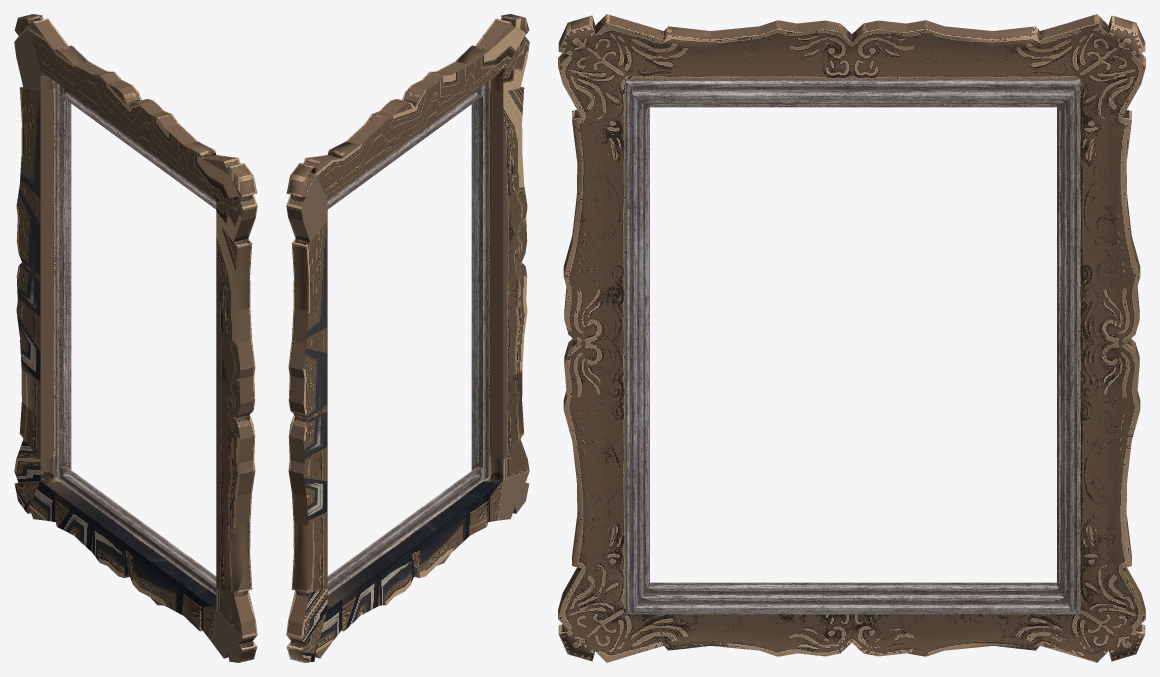
File: frame2.glb
3 views of the same model, side by side, from view 1: azimuth 30°, elevation 25°; view 2: azimuth 150°, elevation 25°; view 3: azimuth 270°, elevation 25° (orthographic). The views are drawn at different scales.
Visible parts, largest first — view 1: g.001; view 2: g.001; view 3: g.001.
Boxes of the visible parts, bbox=[...] form: g.001: bbox=[14, 14, 257, 662]; g.001: bbox=[286, 14, 529, 662]; g.001: bbox=[558, 14, 1145, 662].
Size of the model in its own units: 0.1164 by 2 by 1.67.
1 material, 1 textured.
